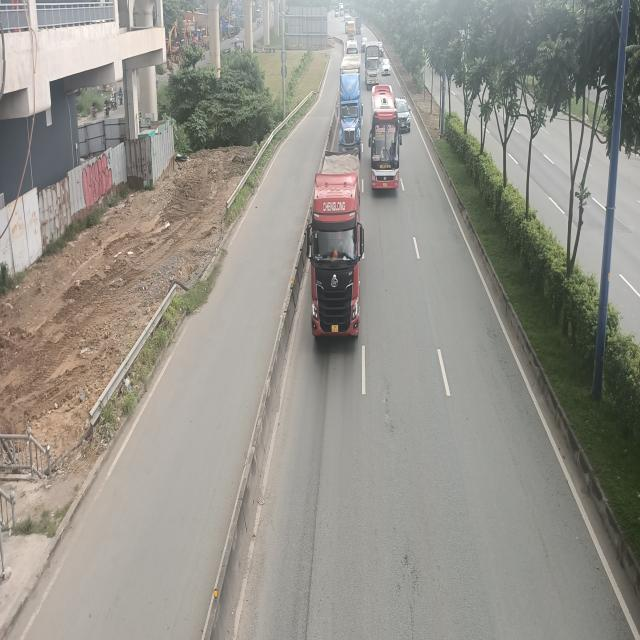car: (395, 95, 411, 133), (381, 58, 391, 75)
coach: (369, 84, 402, 190)
container: (305, 148, 364, 340), (338, 53, 363, 158)
truck: (365, 42, 380, 84)
